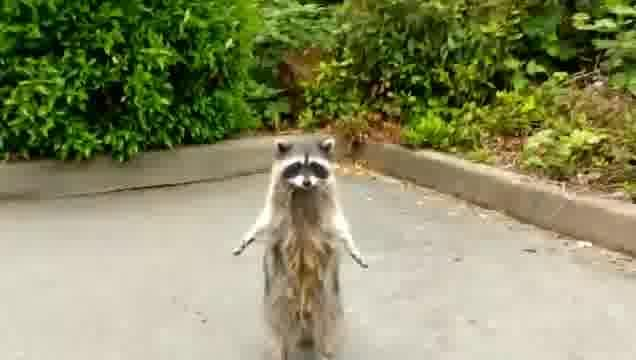raccoon: (230, 134, 368, 360)
